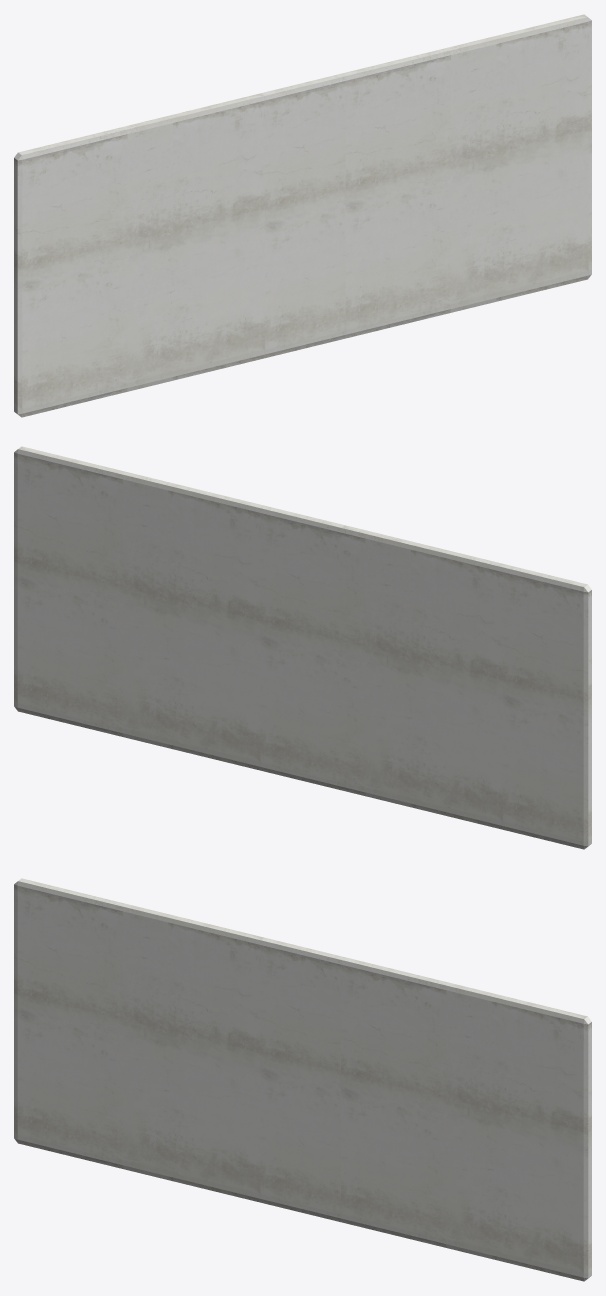
File: Wall2.fbx
3 views of the same model, one above another, from view 1: azimuth 30°, elevation 25°; view 2: azimuth 150°, elevation 25°; view 3: azimuth 330°, elevation 25° (orthographic).
Parts seen in each view (by area): view 1: SM_MERGED_Chapter01J_WallGroup01; view 2: SM_MERGED_Chapter01J_WallGroup01; view 3: SM_MERGED_Chapter01J_WallGroup01.
Boxes of the visible parts, <box> form: SM_MERGED_Chapter01J_WallGroup01: <box>14,14,591,417</box>; SM_MERGED_Chapter01J_WallGroup01: <box>14,446,591,849</box>; SM_MERGED_Chapter01J_WallGroup01: <box>14,878,591,1281</box>.
Size of the model in its own units: 710 by 310 by 10.
Materials: 1 (1 with a texture image).
